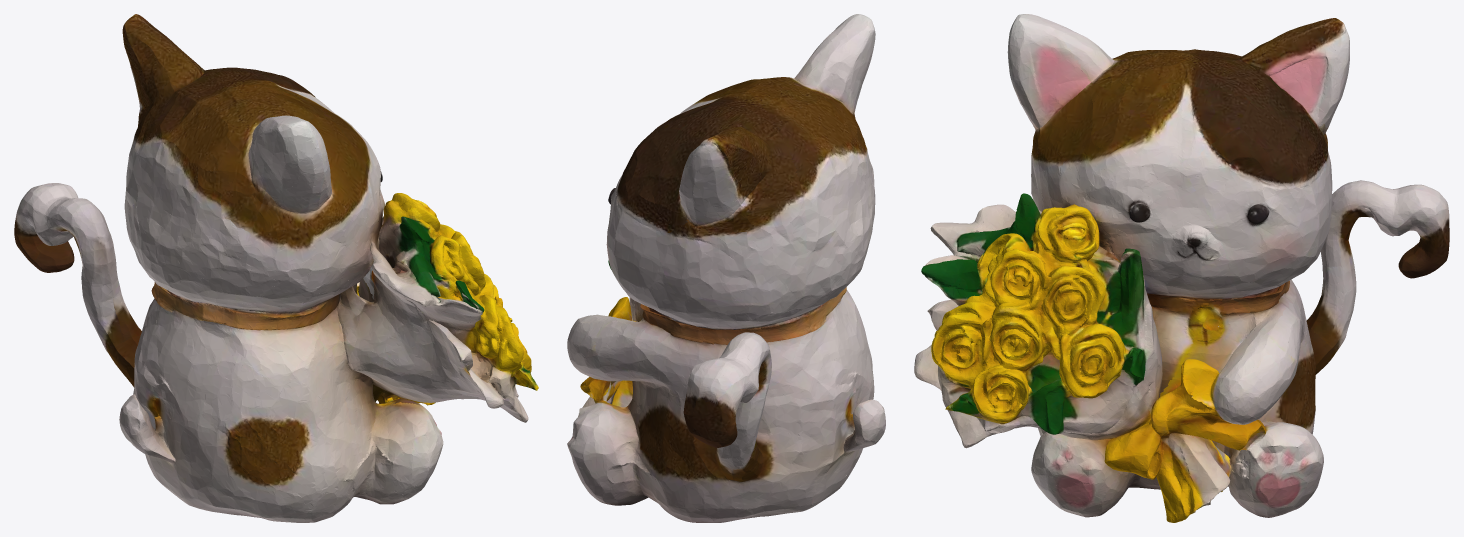
Rendered from Blossom_Kitty_glb-optimized.glb.
3 views of the same model, side by side, from view 1: azimuth 30°, elevation 25°; view 2: azimuth 150°, elevation 25°; view 3: azimuth 270°, elevation 25° (orthographic). The views are drawn at different scales.
Size of the model in its own units: 0.6839 by 0.8985 by 1.
1 material, 1 textured.
